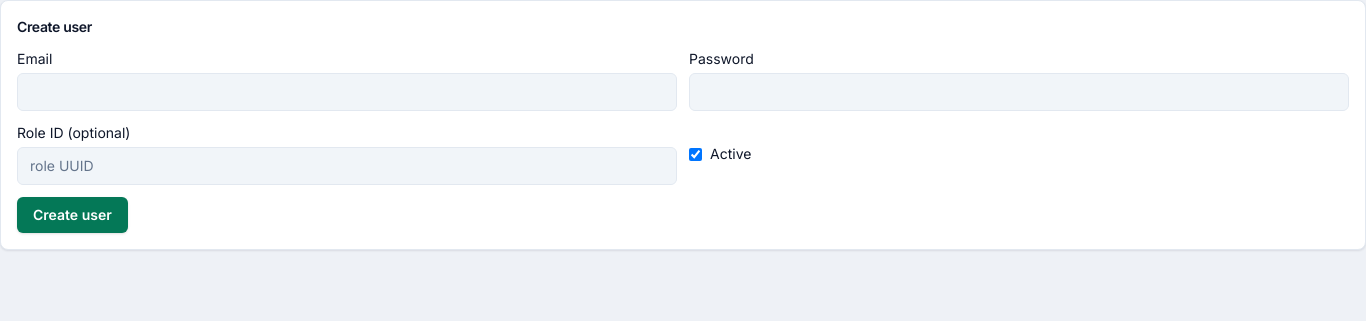
Scenario: CreateUserForm › renders a real 403 for a non-admin caller, not a hidden/generic message
Type "new.user@example.com" into the field labelled "Email" at (347,92), box [17, 73, 677, 111]
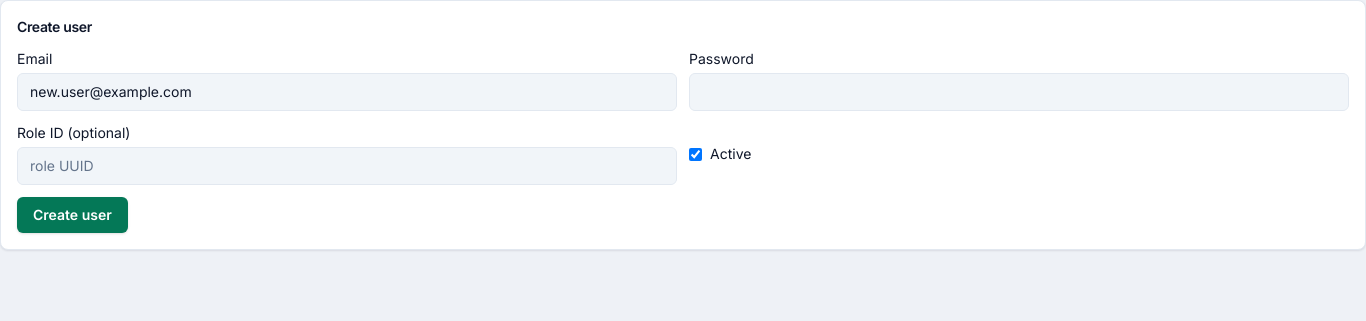
Type "supersecret" into the password field labelled "Password" at (1019,92), box [689, 73, 1349, 111]
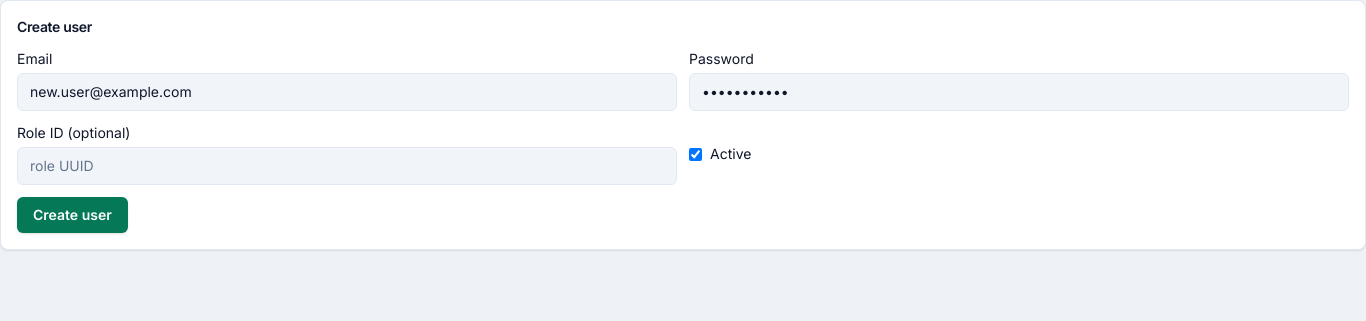
Click the button "Create user" at (72,215), box [17, 197, 128, 233]
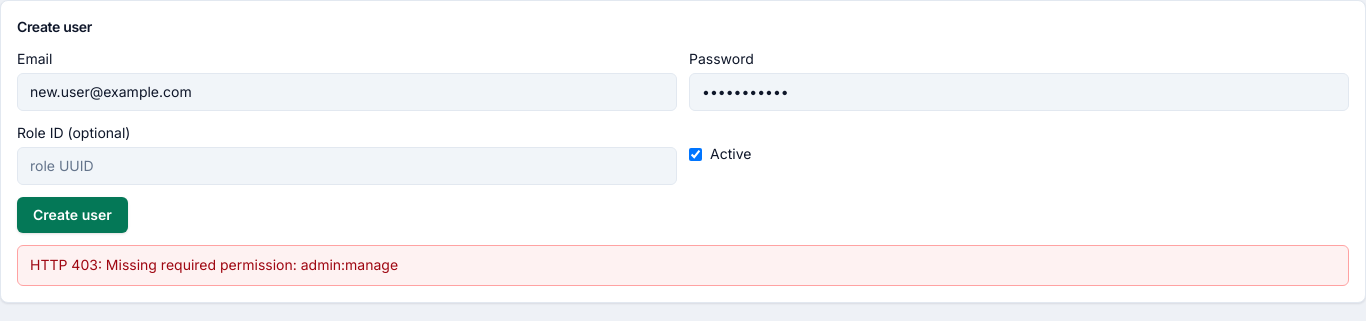
Result: the text "HTTP 403: Missing required permission: admin:manage" is shown at [17, 245, 1349, 286]
